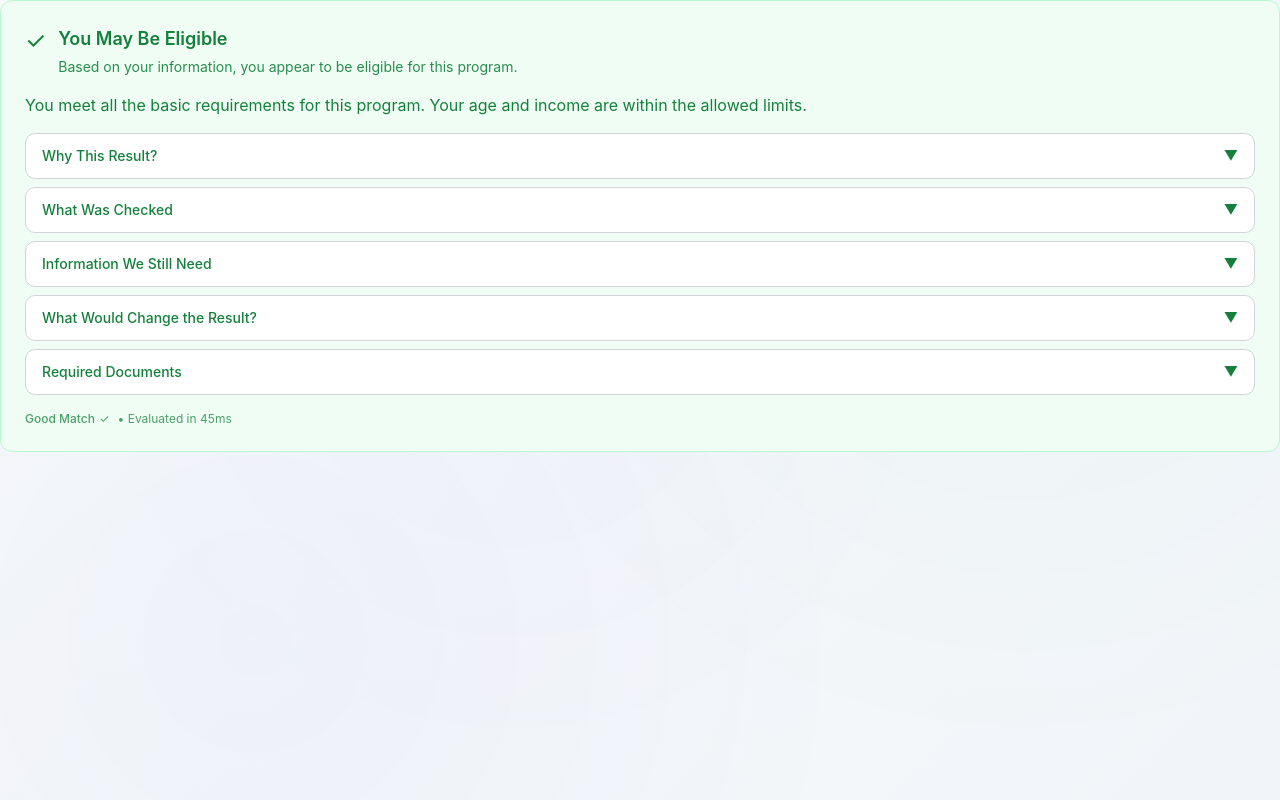
Utility Functions › formatFieldName › formats known field names correctly
The width and height of the screenshot is (1280, 800).
# Expand the missing information section
Click the text "Information We Still Need": (127, 264) x1=42 y1=254 x2=212 y2=274
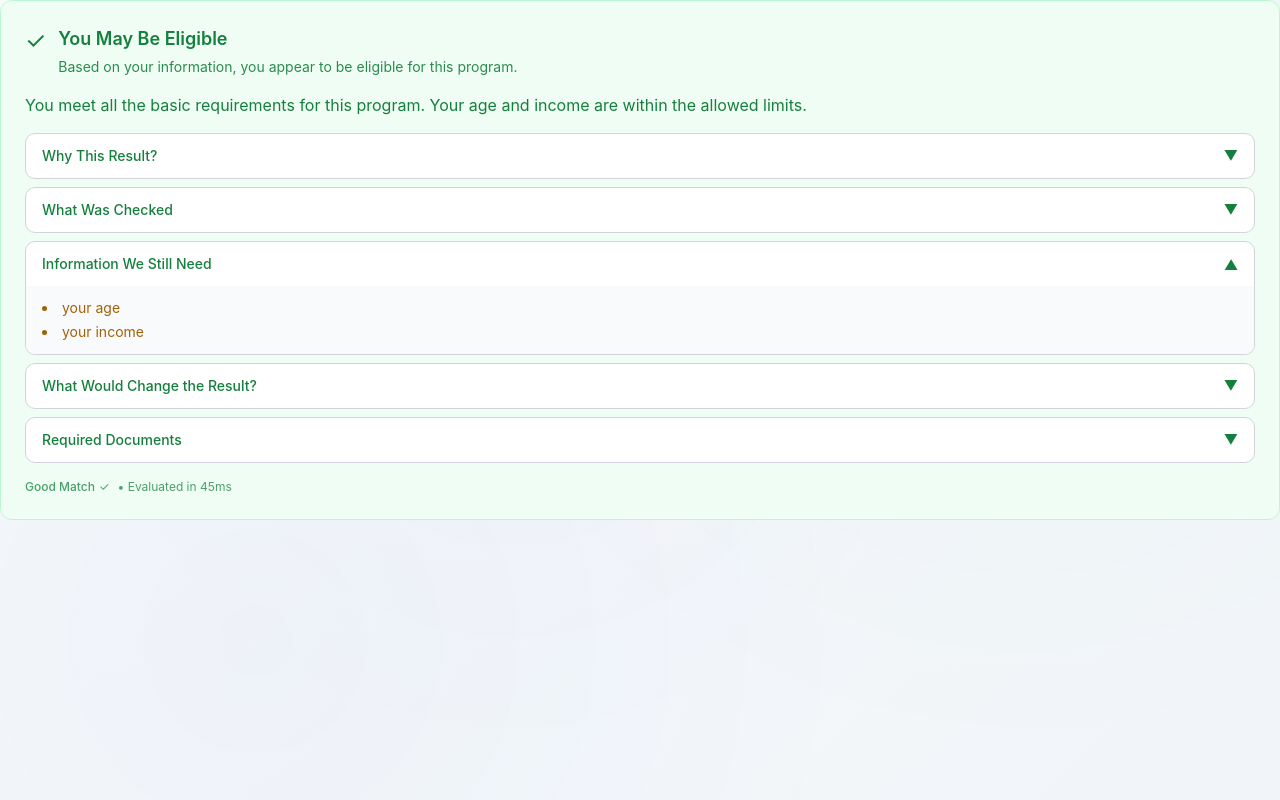
Check: the list item "your age" is shown, box x1=62 y1=299 x2=120 y2=316
Check: the list item "your income" is shown, box x1=62 y1=323 x2=144 y2=340
